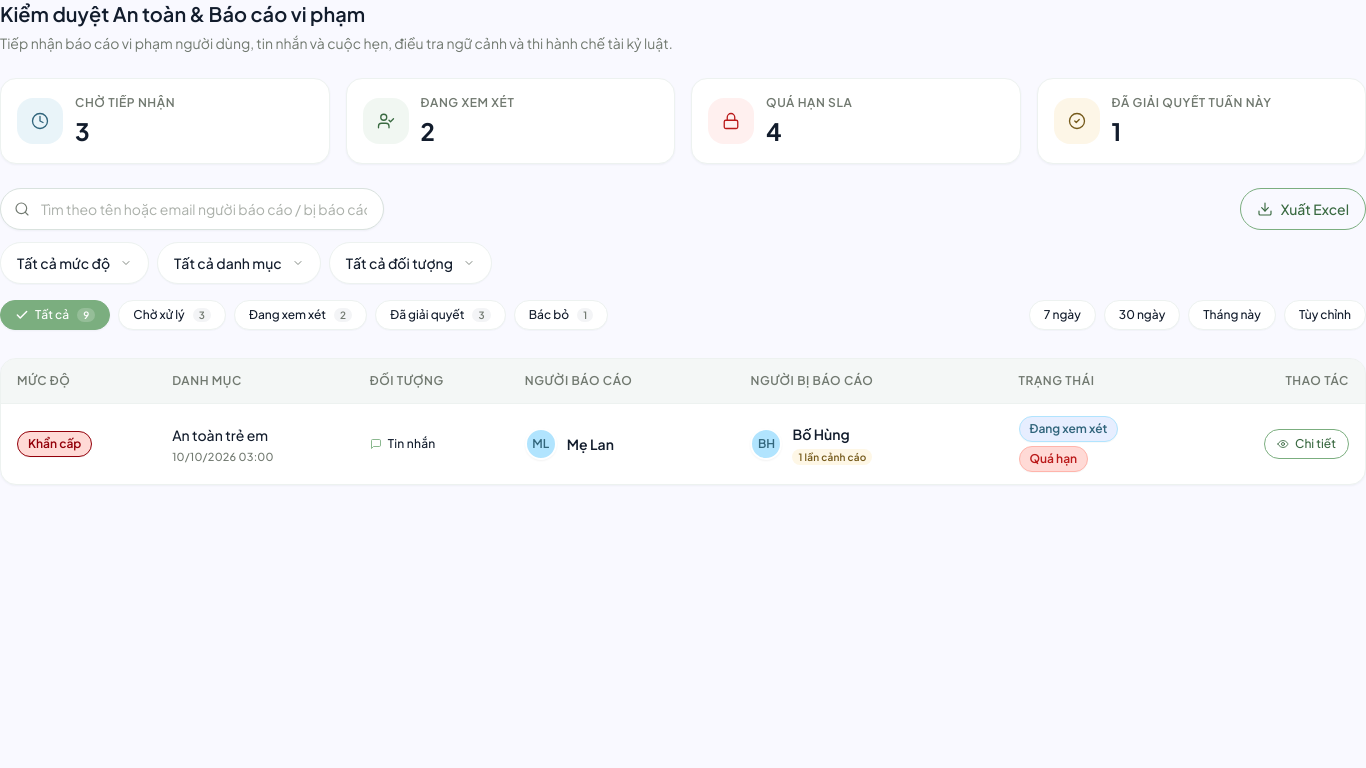
Test: AdminReportsPage › investigation drawer › footer › closes the drawer
Expected: the text "Bố Hùng" is shown, [792,425,850,443]
Click the button "Chi tiết" at (1306, 444), box [1264,429,1349,459]
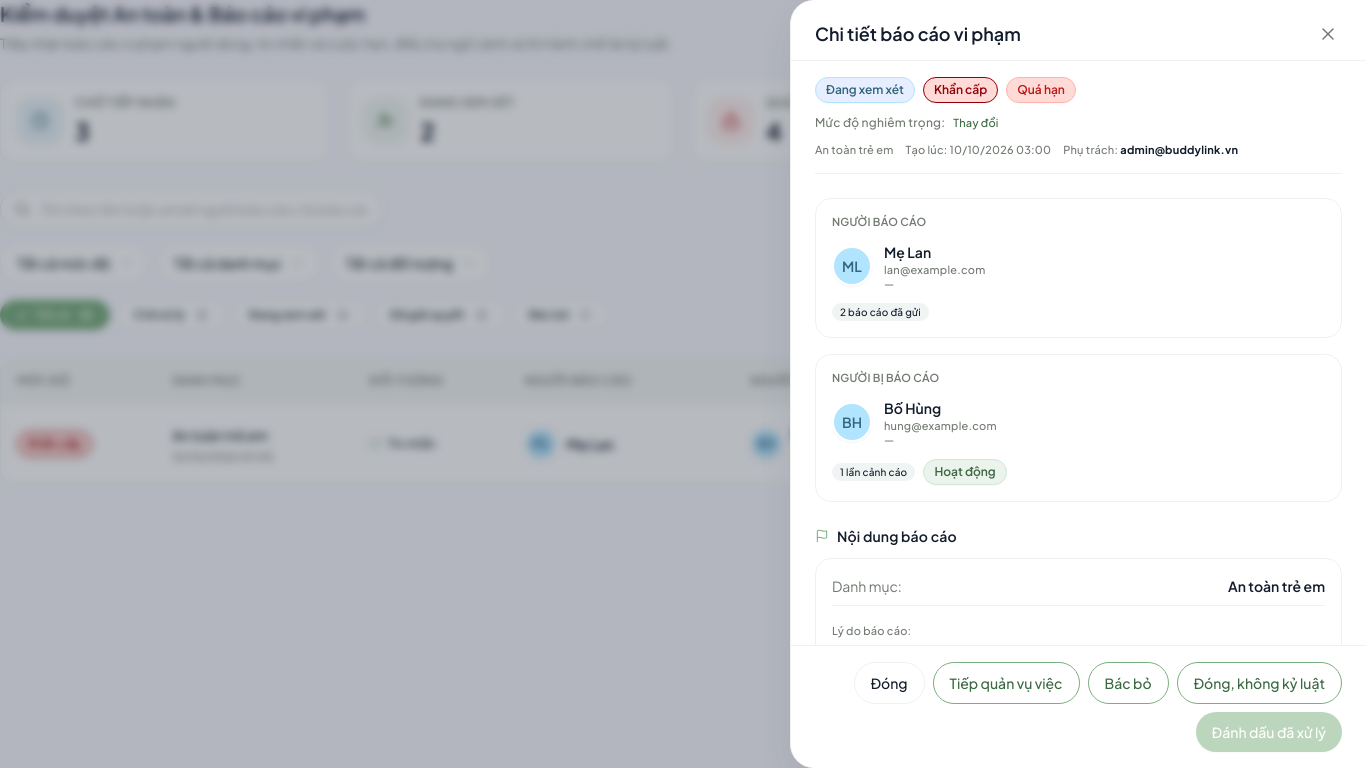
Expected: the heading "Chi tiết báo cáo vi phạm" is shown, [815,20,1021,48]
Click the button "Đóng" at (889, 683), box [854,662,925,704]
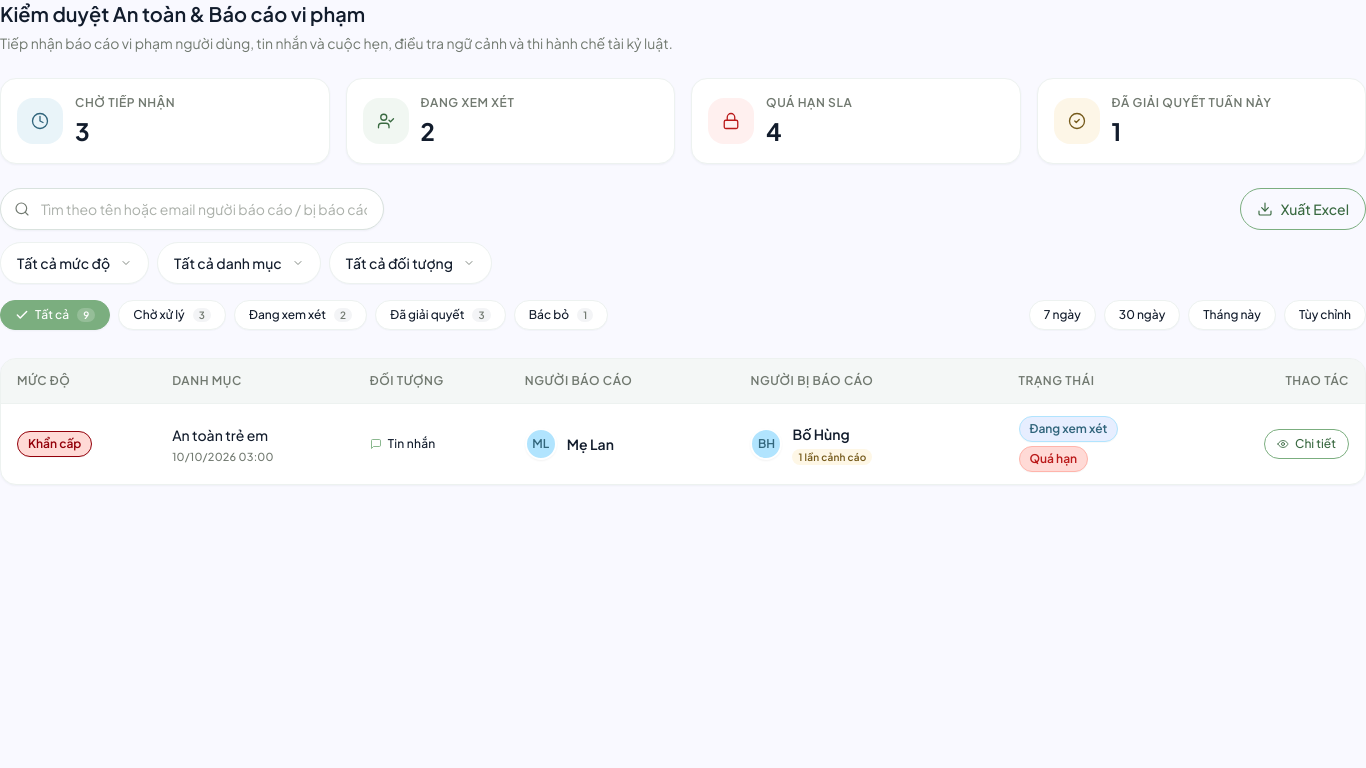
Expected: the heading "Chi tiết báo cáo vi phạm" is gone
